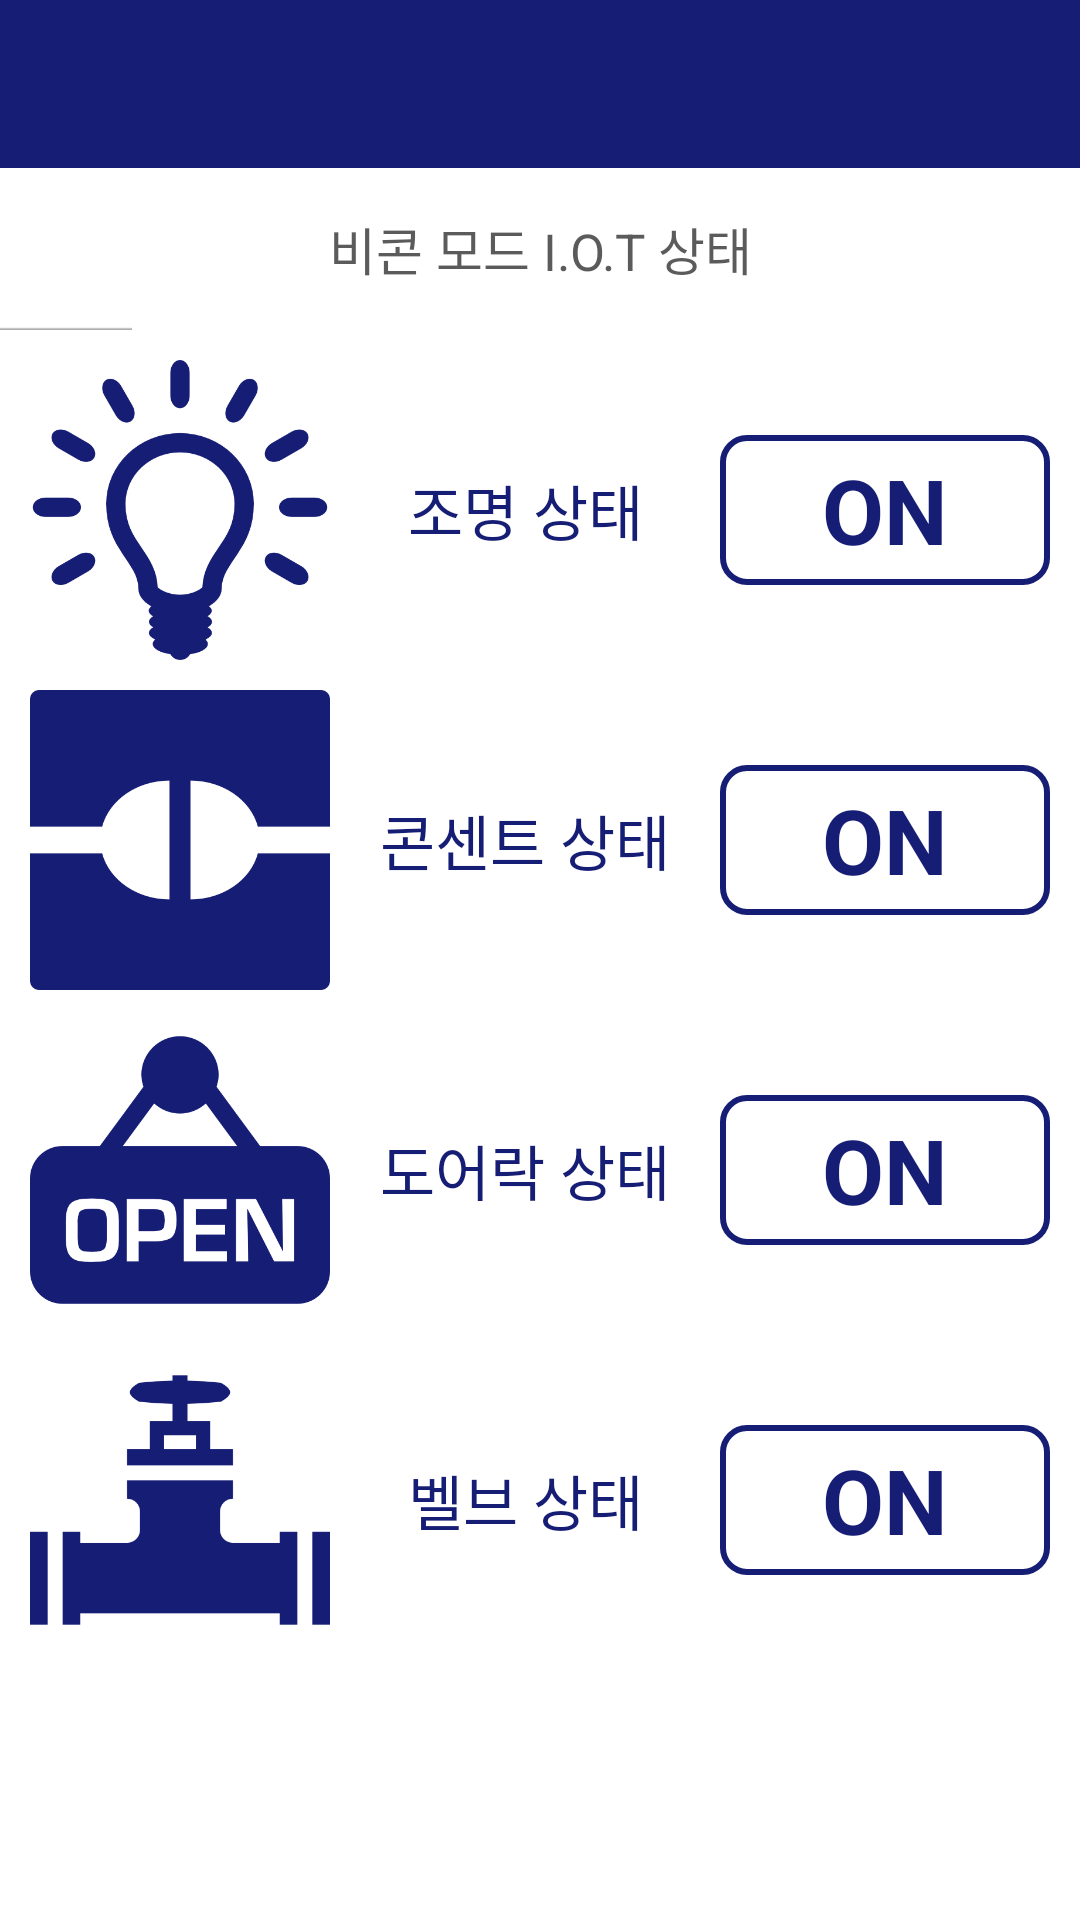

Point at icon controls on the screen. Image size 1080×1920, points as point (x, y).
bulb: point (180, 510)
consent on: point (180, 840)
valve: point (180, 1500)
